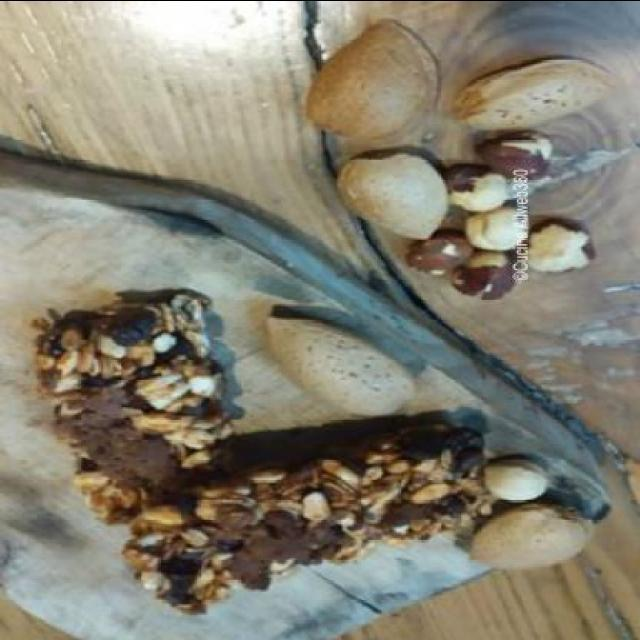Cereal bar packaged: (138, 421, 504, 613), (35, 274, 212, 537)
